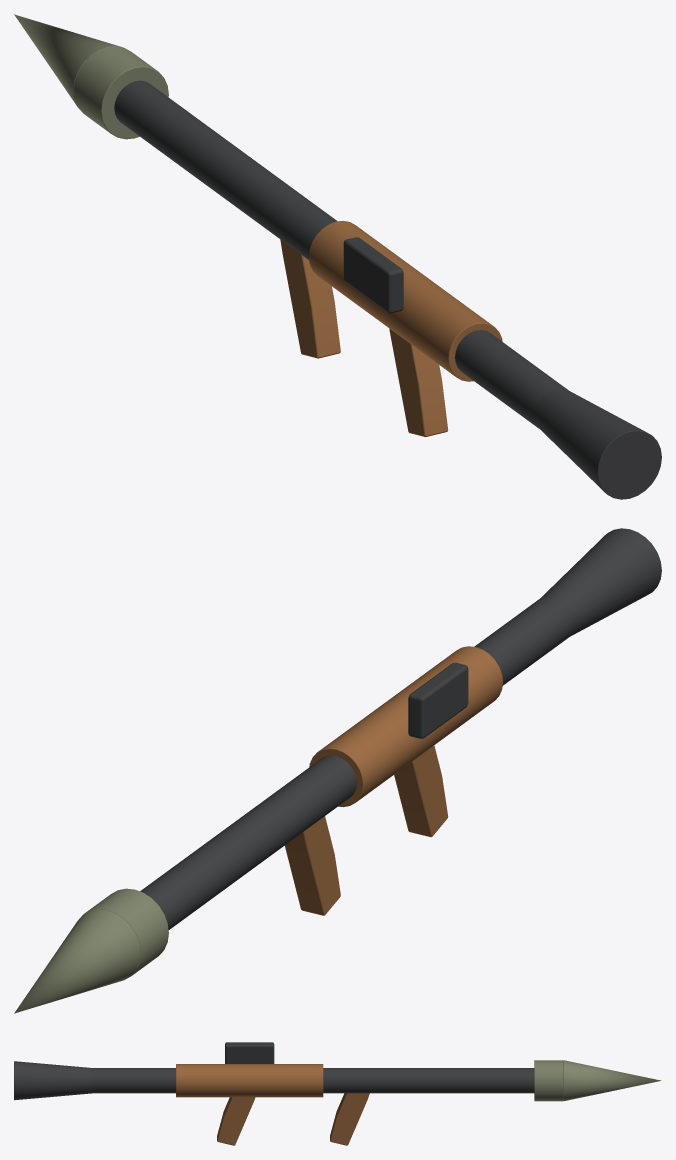
File: rpg7.glb
3 views of the same model, one above another, from view 1: azimuth 30°, elevation 25°; view 2: azimuth 150°, elevation 25°; view 3: azimuth 270°, elevation 25° (orthographic). The views are drawn at different scales.
Visible parts, largest first — view 1: Tube, HeatShield, Venturi, WarheadBase, Grip2, Grip, Optic, Warhead; view 2: Tube, HeatShield, Venturi, Warhead, Grip2, Grip, Optic, WarheadBase; view 3: Tube, HeatShield, Venturi, Warhead, Grip2, WarheadBase, Grip, Optic.
Boxes of the visible parts, bbox=[...] form: Tube: bbox=[114, 80, 568, 428]; HeatShield: bbox=[309, 220, 502, 381]; Venturi: bbox=[534, 388, 661, 499]; WarheadBase: bbox=[73, 46, 168, 139]; Grip2: bbox=[280, 239, 340, 358]; Grip: bbox=[389, 328, 447, 436]; Optic: bbox=[343, 237, 403, 313]; Warhead: bbox=[14, 14, 123, 111]; Tube: bbox=[140, 594, 576, 929]; HeatShield: bbox=[309, 646, 502, 807]; Venturi: bbox=[541, 528, 661, 636]; Warhead: bbox=[14, 909, 140, 1013]; Grip2: bbox=[284, 816, 340, 915]; Grip: bbox=[394, 745, 448, 837]; Optic: bbox=[408, 662, 468, 738]; WarheadBase: bbox=[83, 888, 168, 975]; Tube: bbox=[92, 1068, 534, 1093]; HeatShield: bbox=[176, 1064, 323, 1097]; Venturi: bbox=[14, 1061, 92, 1100]; Warhead: bbox=[563, 1060, 661, 1100]; Grip2: bbox=[330, 1093, 369, 1145]; WarheadBase: bbox=[534, 1060, 563, 1101]; Grip: bbox=[217, 1097, 255, 1145]; Optic: bbox=[225, 1042, 274, 1063].
Bounding box in the file's own units: 0.092 × 0.2051 × 1.32.
